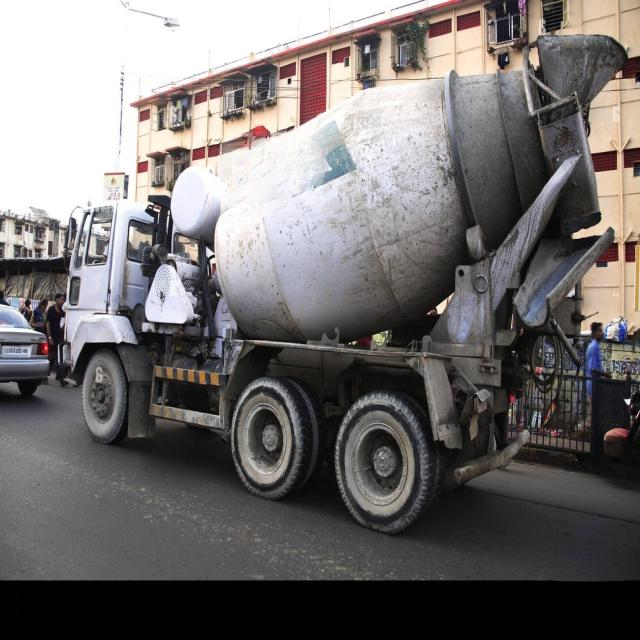truck: (65, 34, 626, 534)
